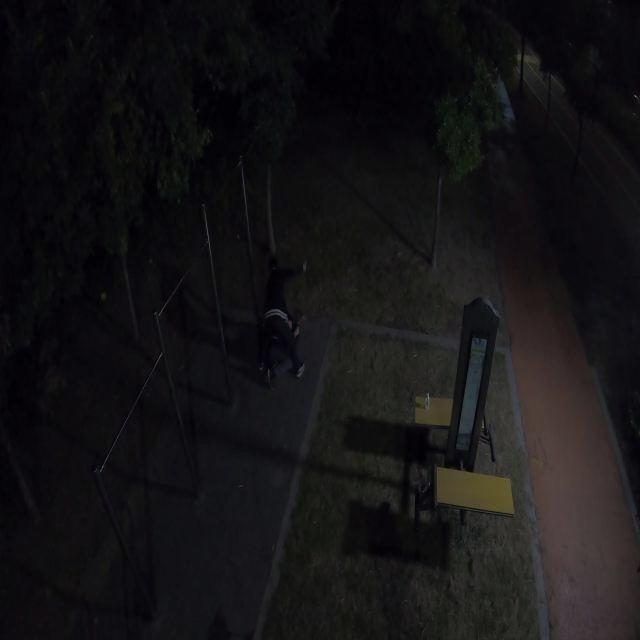fight: (252, 246, 308, 384)
